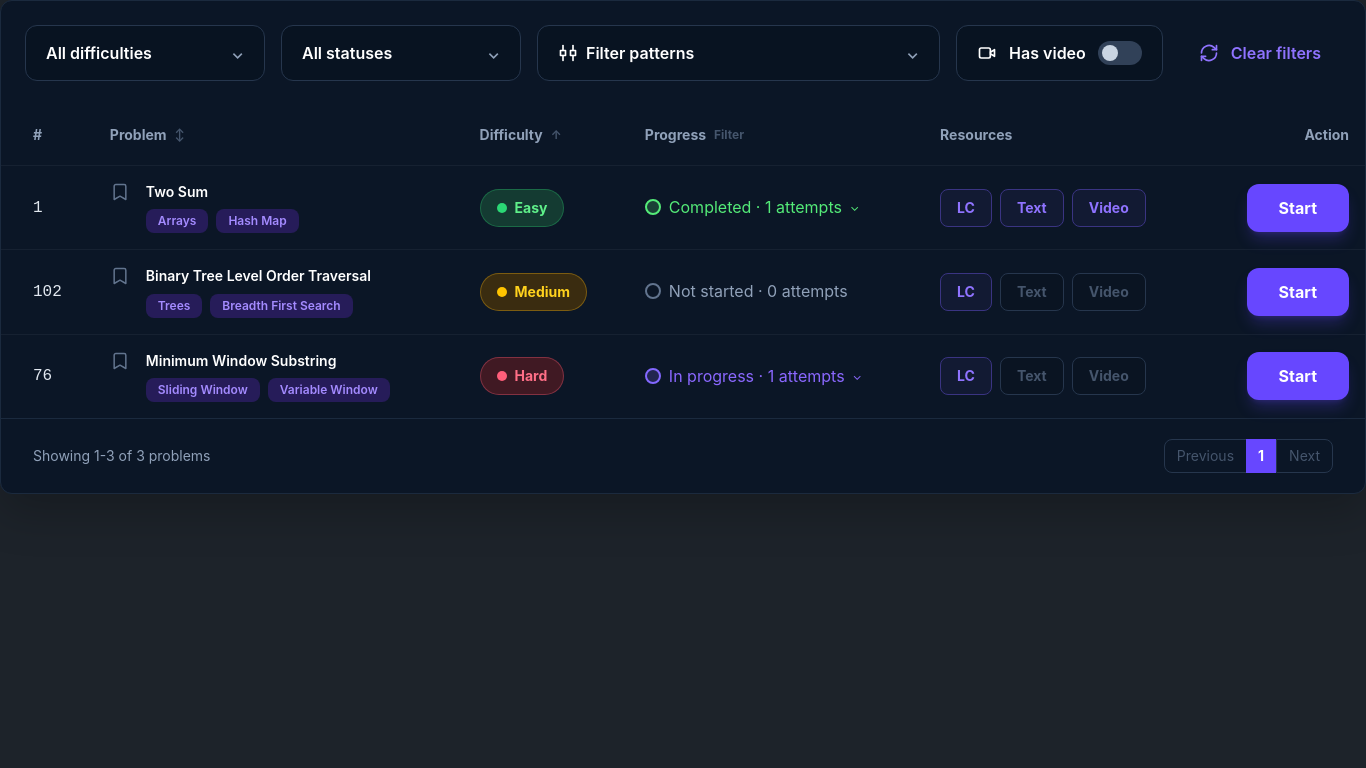
LeetcodeProblemTable › filters video resources and expands attempt history
Step 1. Click the button "Has video" → (1059, 53), box [956,25,1163,81]
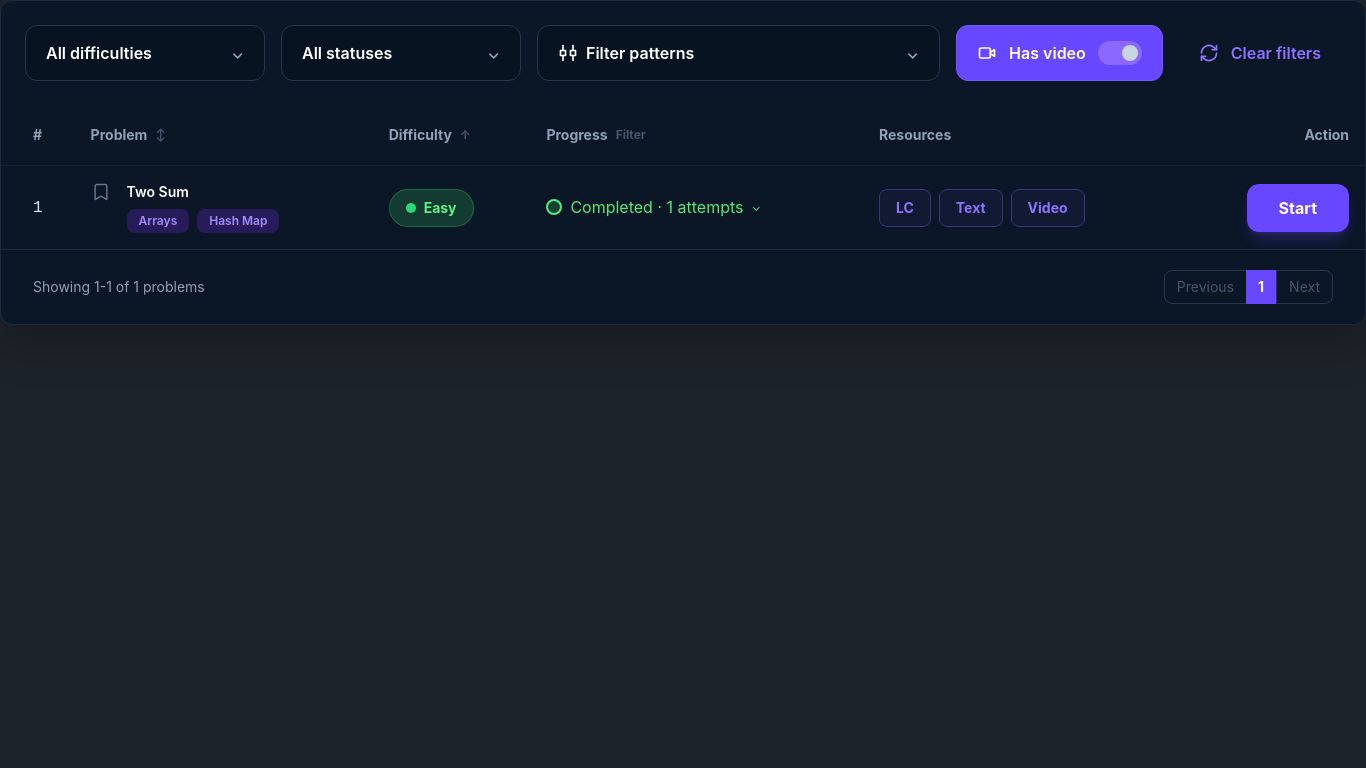
expect the row "Two Sum" is shown: met, box [1,166,1365,249]
expect the text "Binary Tree Level Order Traversal" is gone: met
Step 2. Click the button "Completed · 1 attempts ⌄" → (654, 207), box [546,195,761,219]
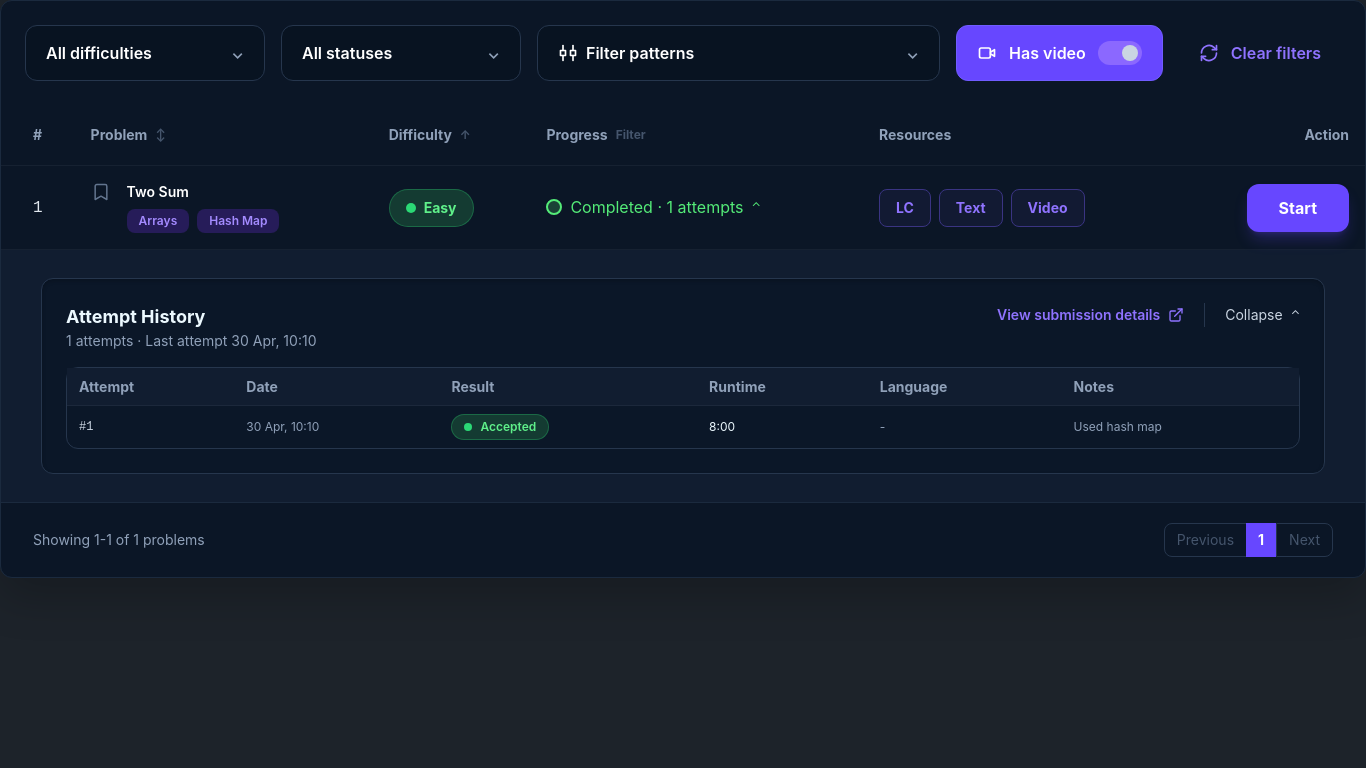
expect the cell "Attempt History" is shown: met, box [1,250,1365,502]
expect the text "Accepted" is shown: met, box [451,414,549,440]
expect the text "8:00" is shown: met, box [697,406,868,448]
